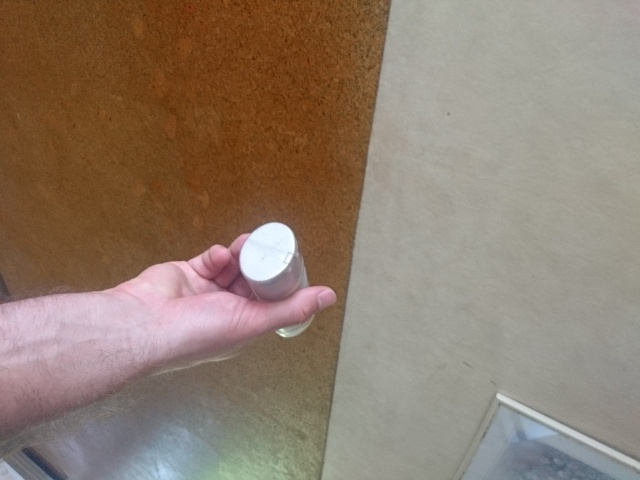Kotanyi Garlic Granules 70g: (236, 219, 318, 341)
